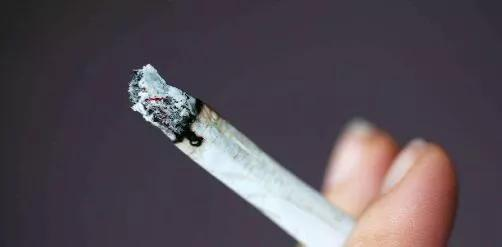smoke: (126, 62, 404, 247)
